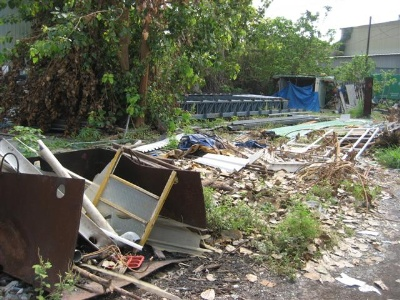box: (123, 255, 145, 270)
plastic_bag: (277, 83, 318, 110), (181, 134, 214, 153)
